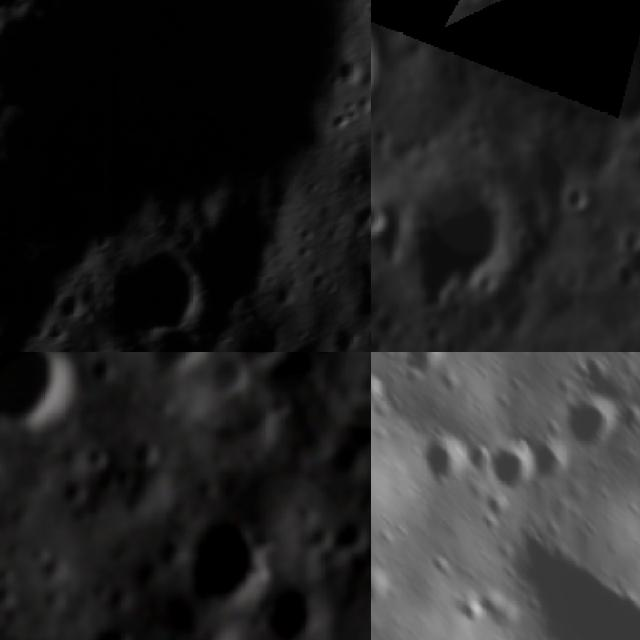crater: (0, 0, 371, 239), (504, 0, 640, 136), (404, 164, 521, 300), (496, 530, 640, 640), (110, 249, 216, 345), (180, 514, 262, 614), (0, 352, 79, 428), (254, 576, 325, 640), (488, 442, 548, 508), (217, 381, 280, 443), (558, 391, 624, 448), (411, 429, 471, 490), (371, 0, 395, 115), (448, 15, 497, 69), (532, 438, 580, 488), (263, 352, 318, 394), (206, 352, 252, 398), (558, 173, 602, 219), (118, 430, 168, 470), (324, 520, 369, 564), (335, 399, 371, 453), (371, 562, 403, 618), (136, 352, 207, 376), (79, 352, 123, 388), (610, 213, 640, 258), (371, 194, 396, 243), (607, 256, 640, 291), (71, 442, 106, 473), (325, 60, 362, 88), (498, 0, 561, 16), (346, 352, 371, 392), (53, 480, 86, 510), (89, 621, 129, 640), (371, 370, 389, 411), (235, 352, 286, 363), (371, 295, 389, 324), (288, 337, 314, 352), (371, 332, 388, 352), (501, 342, 534, 352)
